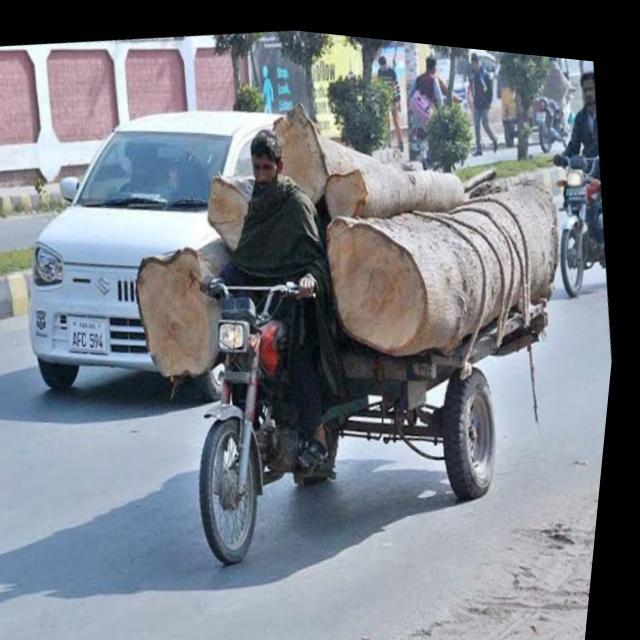Nonhelmet: (243, 119, 284, 194)
